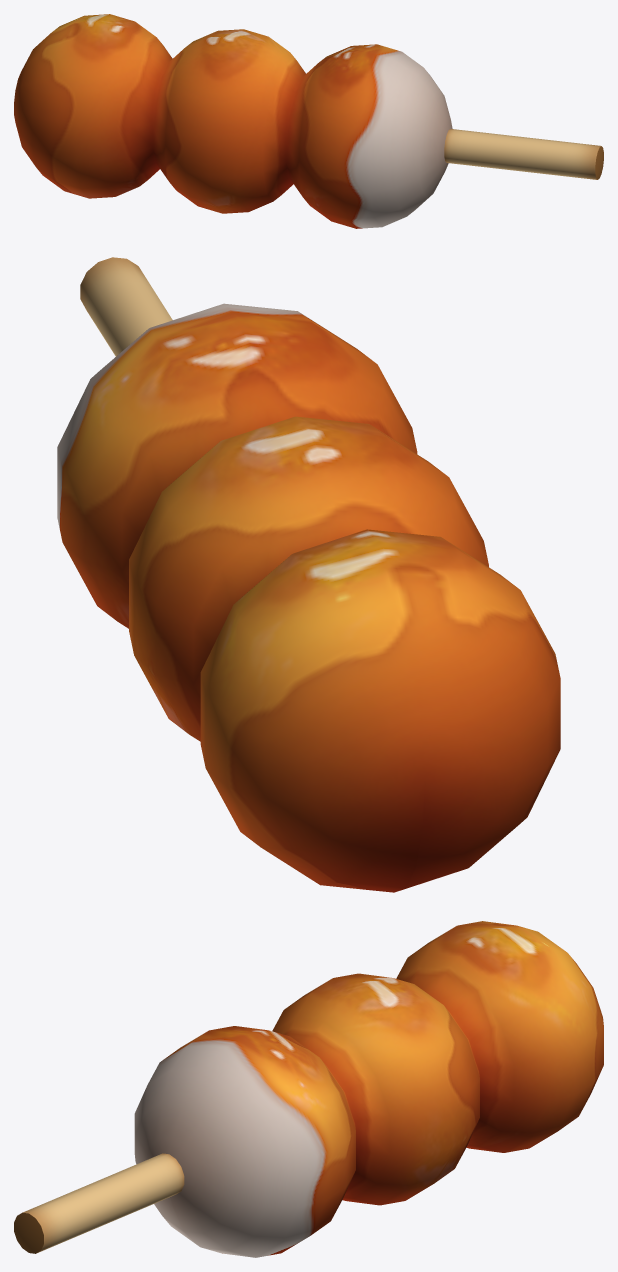
Rendered from 010-Dango_01.FBX.
The picture shows the model from 3 angles, top to bottom: view 1: azimuth 30°, elevation 25°; view 2: azimuth 150°, elevation 25°; view 3: azimuth 270°, elevation 25°; orthographic projection. The views are drawn at different scales.
Visible parts, largest first — view 1: 010-Dango_01; view 2: 010-Dango_01; view 3: 010-Dango_01.
Boxes of the visible parts, x1,y1,x2,y2 form: 010-Dango_01: (14,14,603,228); 010-Dango_01: (57,257,560,892); 010-Dango_01: (14,921,603,1257).
Bounding box in the file's own units: 20.66 × 8.25 × 20.66.
